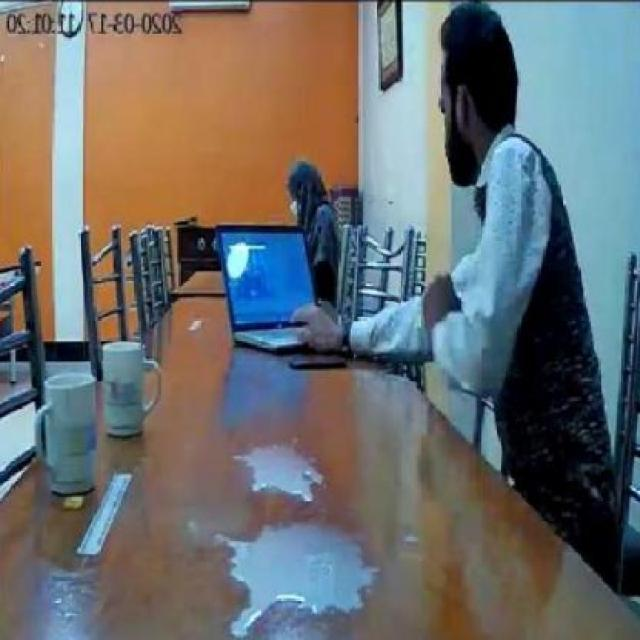spillage: (231, 524, 379, 637), (242, 440, 325, 501)
